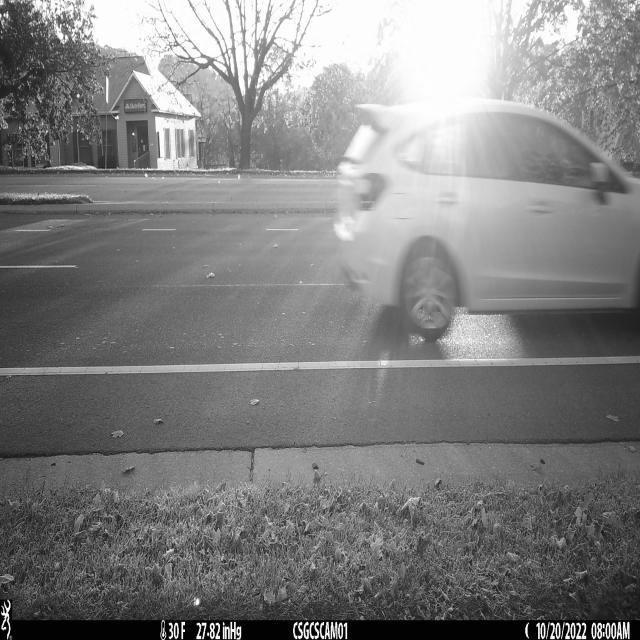Hatchback: (333, 99, 640, 341)
